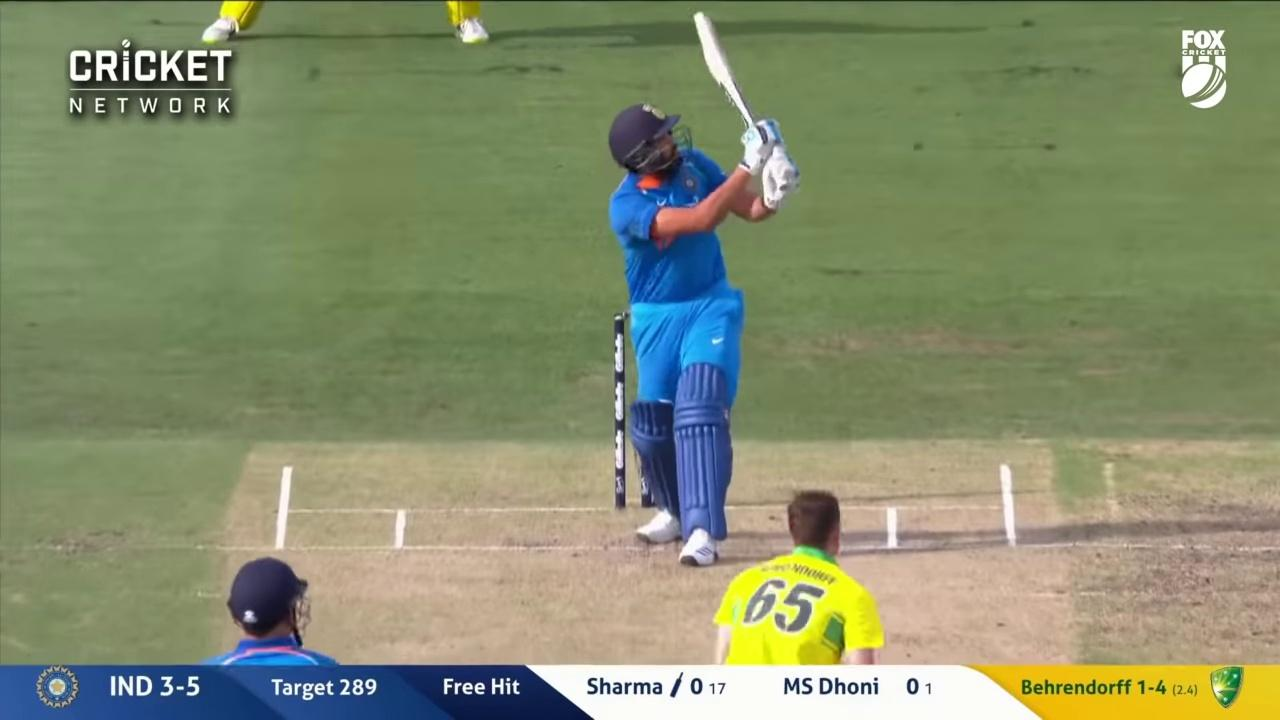batsman: (600, 10, 802, 568)
